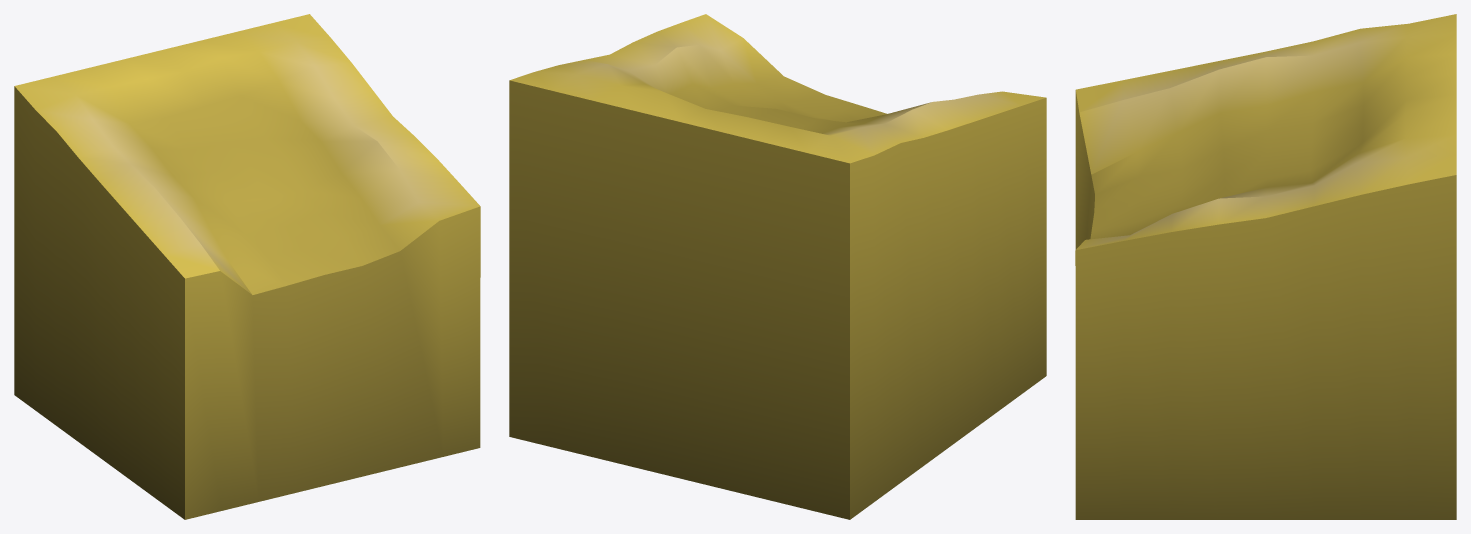
File: Riverbed1.fbx
The picture shows the model from 3 angles, left to right: view 1: azimuth 30°, elevation 25°; view 2: azimuth 150°, elevation 25°; view 3: azimuth 270°, elevation 25°; orthographic projection. The views are drawn at different scales.
Visible parts, largest first — view 1: Riverbed; view 2: Riverbed; view 3: Riverbed.
Part boxes in pixels (x1,y1,x2,y2): Riverbed: (14, 14, 480, 519); Riverbed: (509, 14, 1046, 519); Riverbed: (1075, 14, 1456, 519).
Size of the model in its own units: 201 by 200 by 200.
